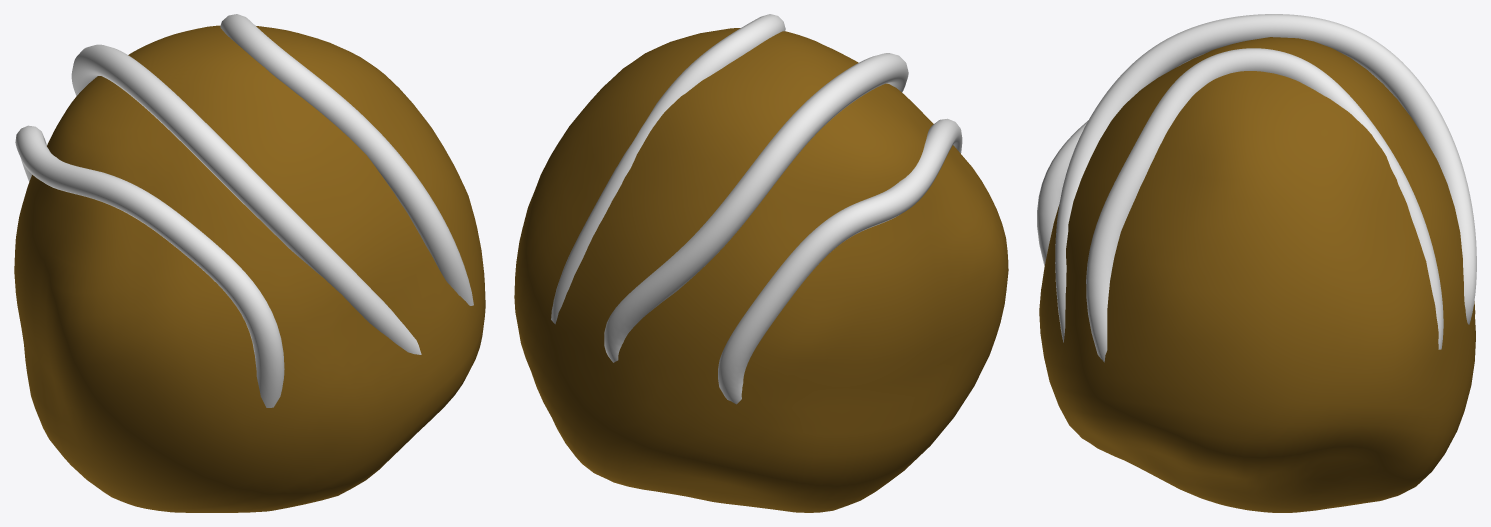
File: chocolate2.fbx
3 views of the same model, side by side, from view 1: azimuth 30°, elevation 25°; view 2: azimuth 150°, elevation 25°; view 3: azimuth 270°, elevation 25° (orthographic). The views are drawn at different scales.
Visible parts, largest first — view 1: NurbsPath.001; view 2: NurbsPath.001; view 3: NurbsPath.001.
Boxes of the visible parts, x1,y1,x2,y2 form: NurbsPath.001: (14, 14, 485, 512); NurbsPath.001: (514, 14, 1008, 512); NurbsPath.001: (1037, 14, 1476, 512).
Size of the model in its own units: 68.09 by 69.66 by 62.71.
